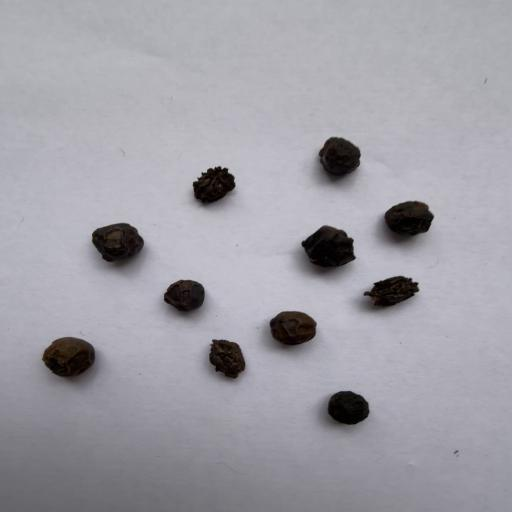Black_pepper: (378, 179, 459, 248), (80, 204, 169, 265), (290, 212, 371, 279), (260, 297, 345, 354), (31, 330, 102, 385), (328, 378, 378, 441), (311, 129, 364, 186), (157, 272, 220, 316)
papaya_seed: (173, 144, 258, 222), (357, 271, 439, 315), (203, 333, 254, 386)
